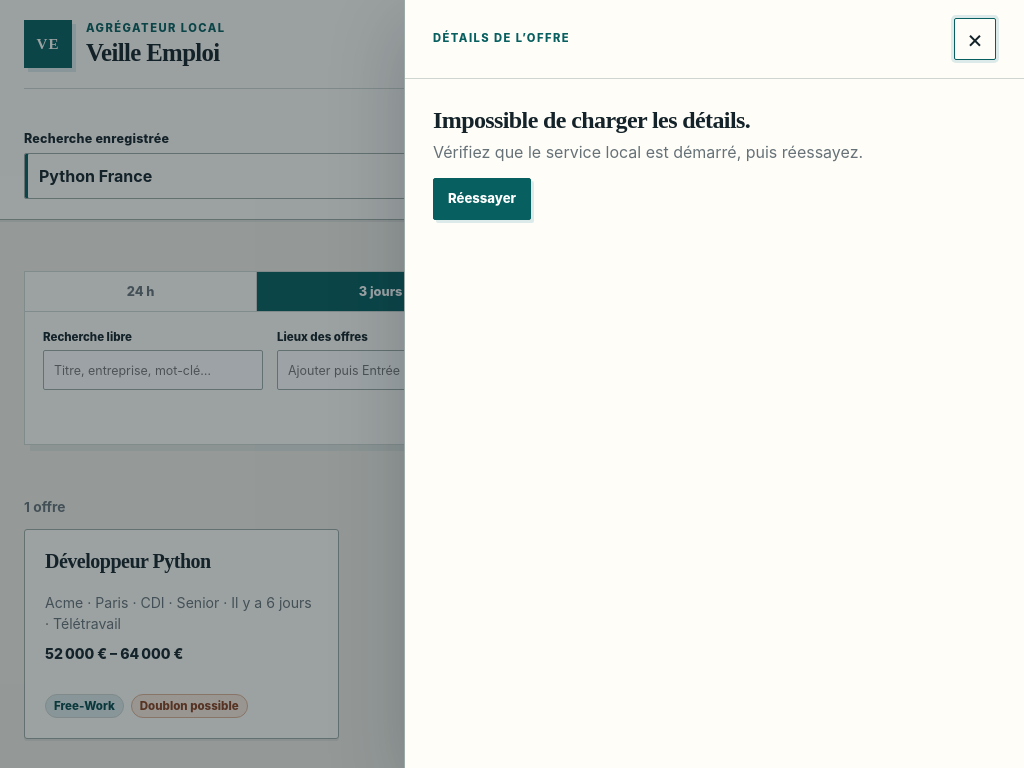
Test: détails d’une offre › réessaie le chargement des détails après une erreur
expect the message shows "Impossible de charger les détails.": met, box [433,107,750,133]
Click the button "Réessayer" at {"x": 482, "y": 199}, box [433,178,531,220]
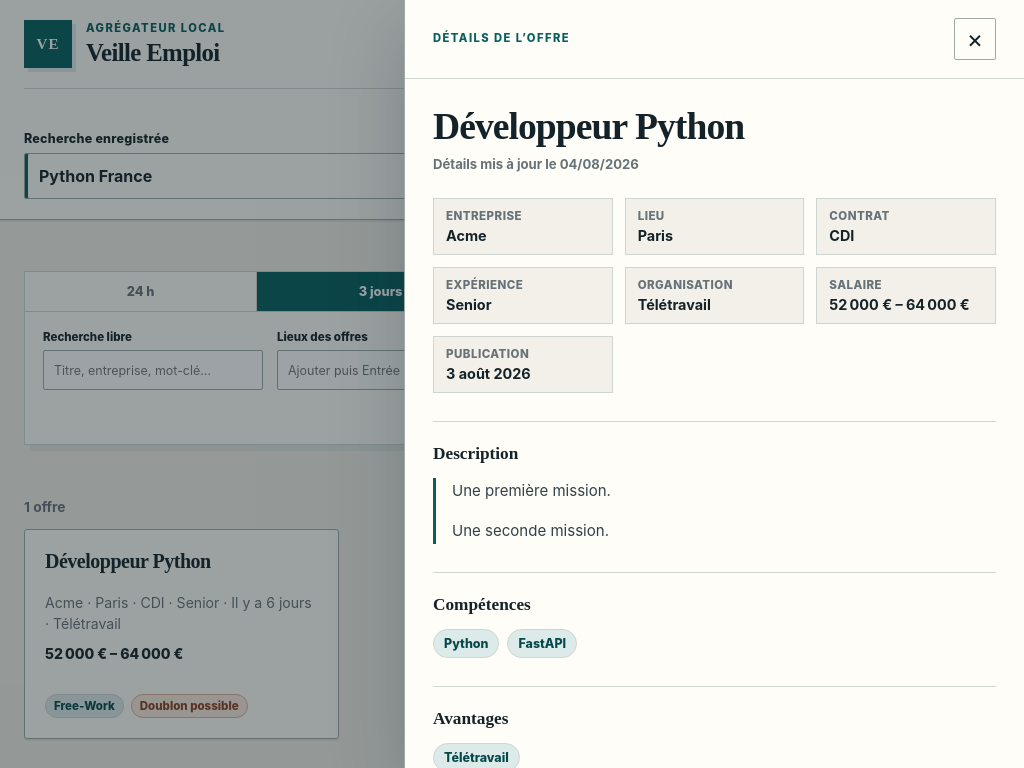
expect the heading "Développeur Python" is shown: met, box [433,106,744,147]
